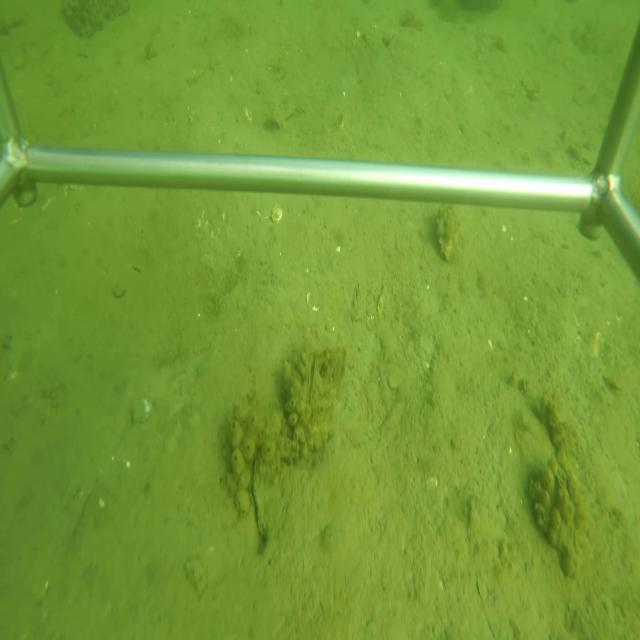Oyster-Indeterminate: (435, 206, 459, 266)
Oyster-Open: (244, 450, 286, 551)
